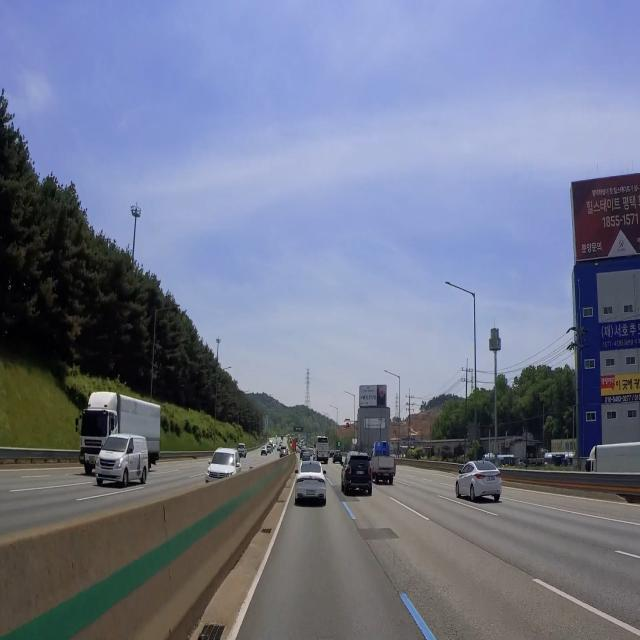car: (484, 472, 501, 488), (303, 486, 318, 503), (87, 453, 99, 471), (98, 467, 115, 477), (355, 468, 366, 480)
